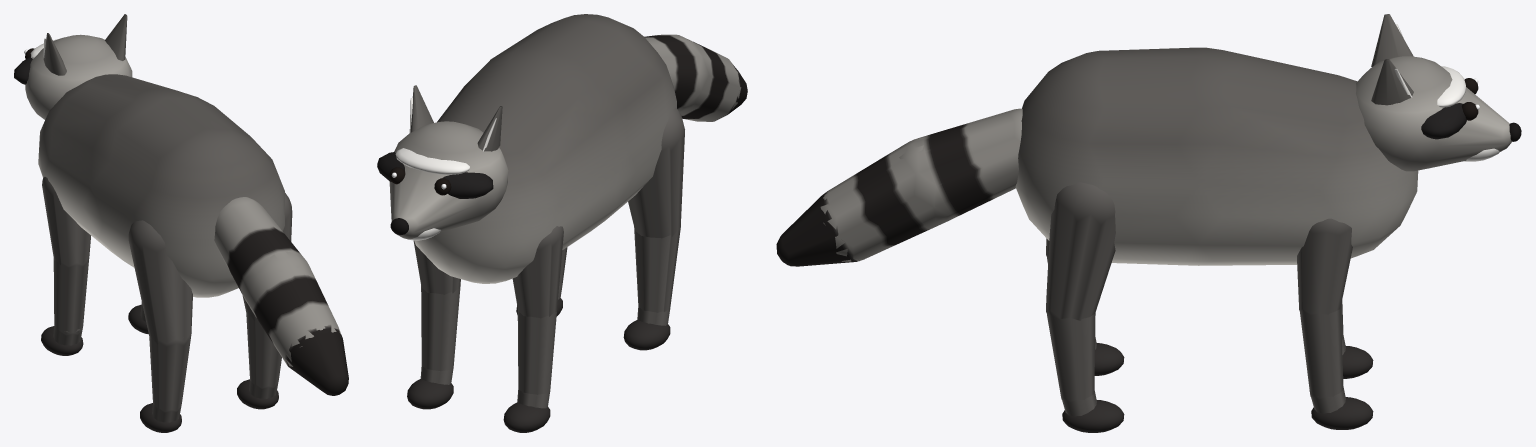
File: Raccoon.glb
The picture shows the model from 3 angles, left to right: view 1: azimuth 30°, elevation 25°; view 2: azimuth 150°, elevation 25°; view 3: azimuth 270°, elevation 25°; orthographic projection. The views are drawn at different scales.
Visible parts, largest first — view 1: Body, Tail, LegBL, Head, LegFL, LegBR, LegFR; view 2: Body, Head, LegBL, LegFL, LegFR, Tail; view 3: Body, Tail, Head, LegBR, LegFR, LegFL, LegBL.
Boxes of the visible parts, x1,y1,x2,y2 form: Body: [38, 74, 284, 297]; Tail: [214, 197, 348, 395]; LegBL: [128, 220, 192, 432]; Head: [14, 14, 132, 119]; LegFL: [41, 177, 90, 355]; LegBR: [237, 193, 292, 409]; LegFR: [128, 302, 148, 334]; Body: [414, 14, 676, 283]; Head: [377, 85, 508, 240]; LegBL: [623, 108, 684, 350]; LegFL: [503, 226, 563, 432]; LegFR: [407, 240, 460, 409]; Tail: [644, 34, 747, 121]; Body: [1015, 47, 1418, 265]; Tail: [776, 108, 1022, 266]; Head: [1356, 14, 1521, 171]; LegBR: [1046, 182, 1124, 432]; LegFR: [1297, 218, 1373, 429]; LegFL: [1341, 300, 1373, 378]; LegBL: [1046, 238, 1124, 375].
Size of the model in its own units: 1.6 by 2.99 by 5.54.
1 material, 1 textured.
